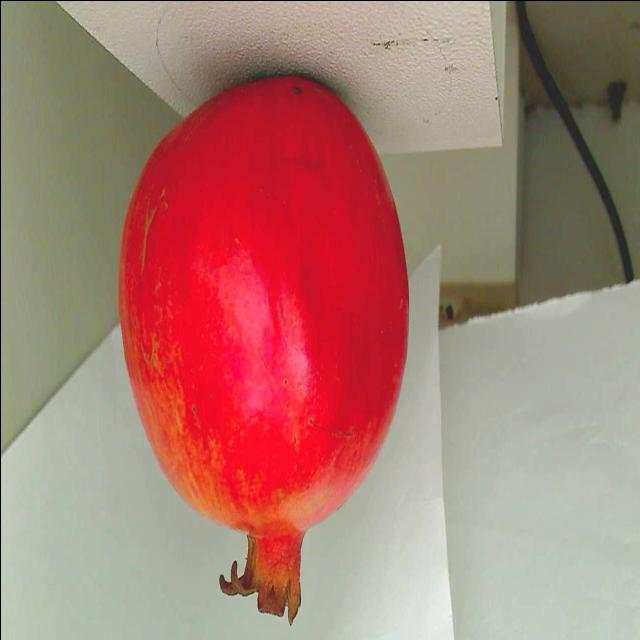pomegranate: (104, 61, 410, 629)
